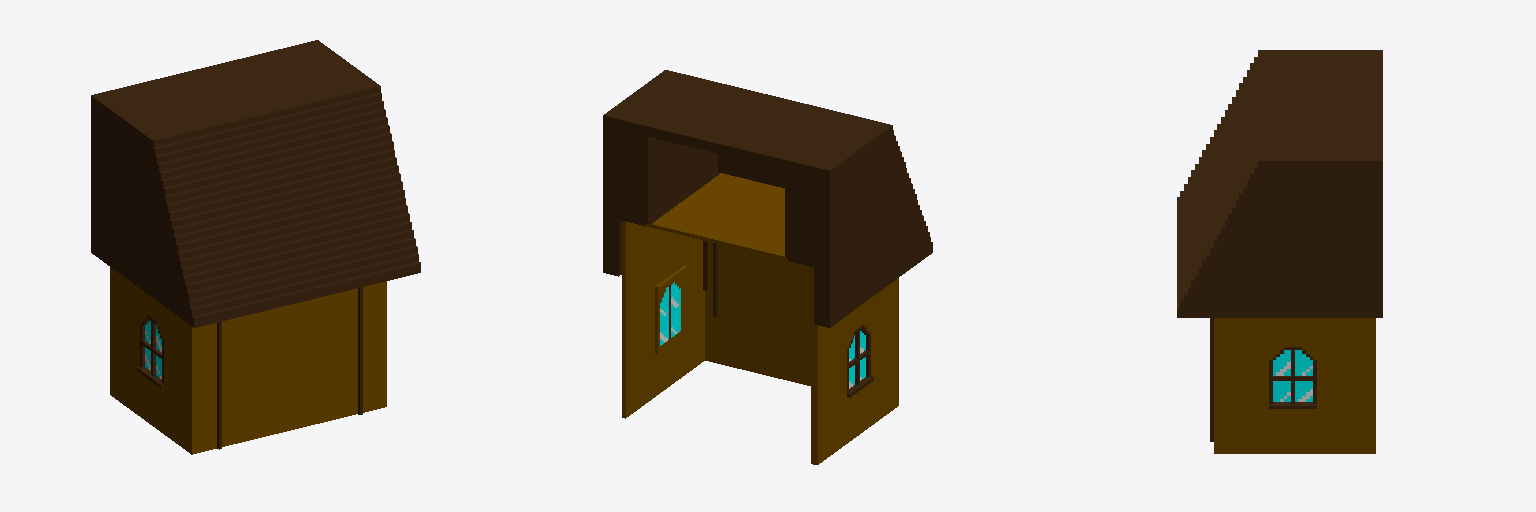
3 renders of one model, left to right at view 1: azimuth 30°, elevation 25°; view 2: azimuth 150°, elevation 25°; view 3: azimuth 270°, elevation 25°, orthographic.
Parts seen in each view (by area): view 1: home_3; view 2: home_3; view 3: home_3.
Part boxes in pixels (x1,y1,x2,y2): home_3: (91,40,420,454); home_3: (603,70,932,464); home_3: (1177,50,1382,453).
Size of the model in its own units: 71 by 90 by 56.
Materials: 1 (1 with a texture image).